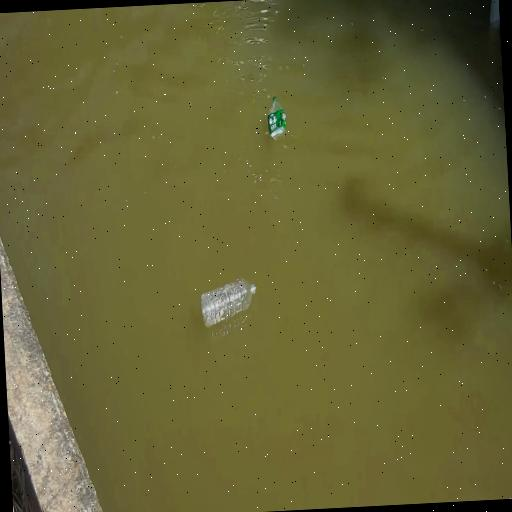plastic: (198, 275, 260, 330), (266, 92, 288, 144)
